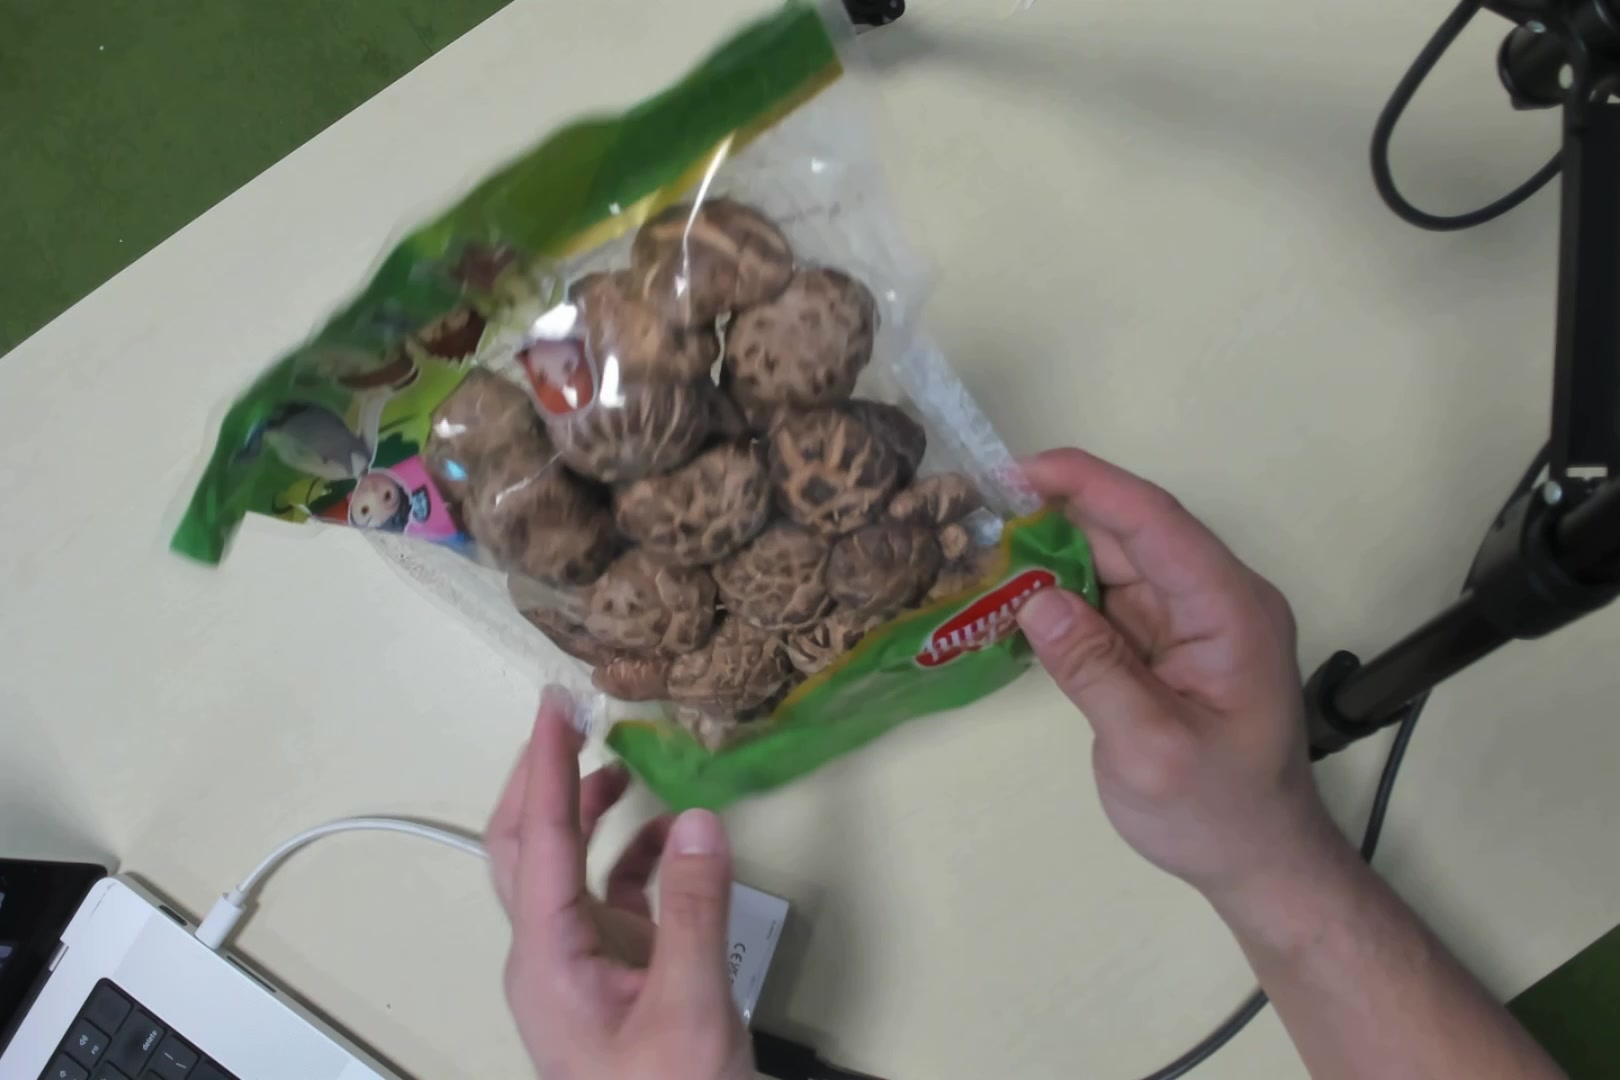OtherDriedFood_100-199g_NonHalal_NonHealthy: (381, 131, 1063, 770)
